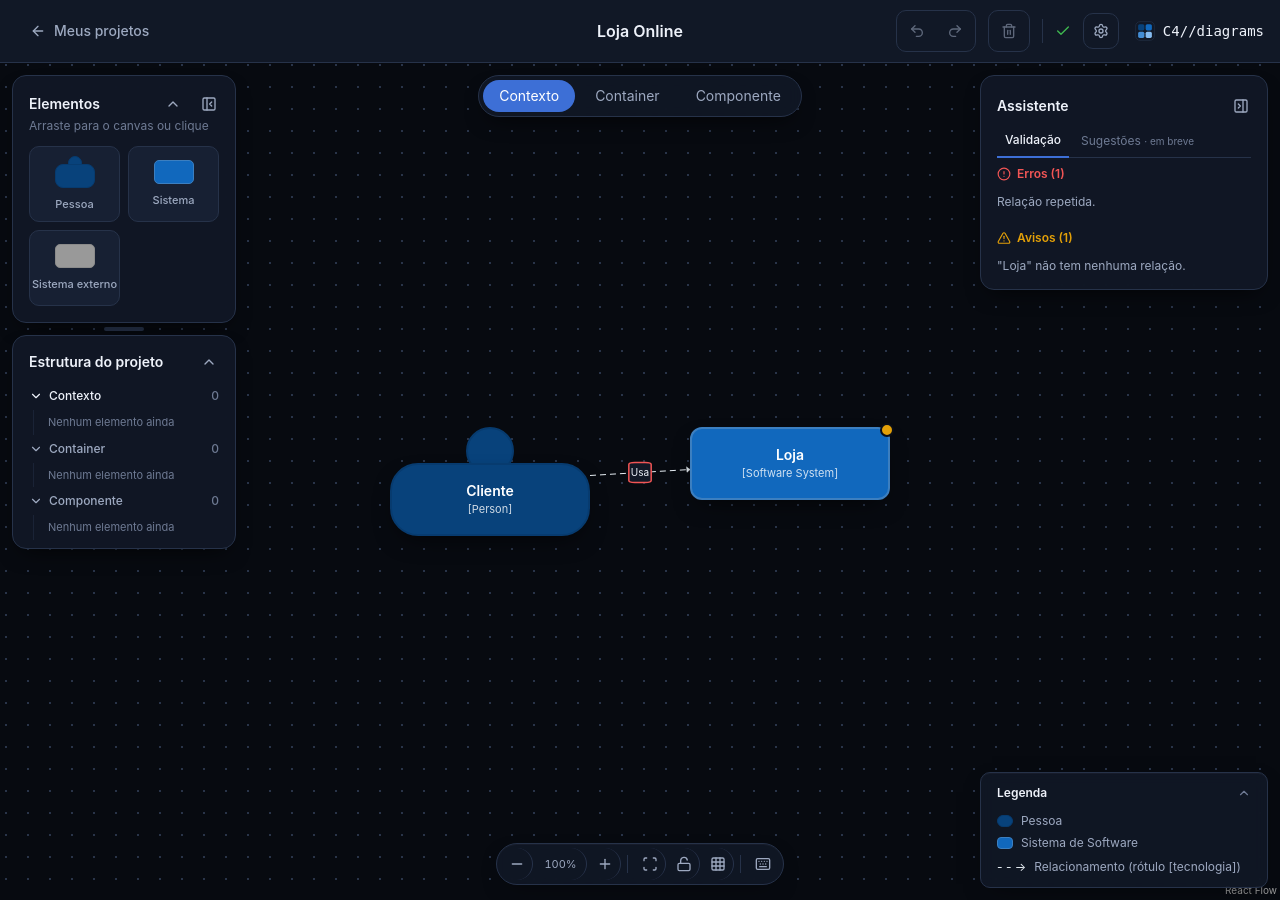
ProjectPage (editor de diagramas) › salvamento (RNF08) › deve mostrar os atalhos do editor num modal, incluindo a seleção múltipla
Expected: the heading "Loja Online" is shown, [597,19,683,43]
Click the button named "Configurações": (1101, 31) [1083,13,1119,49]
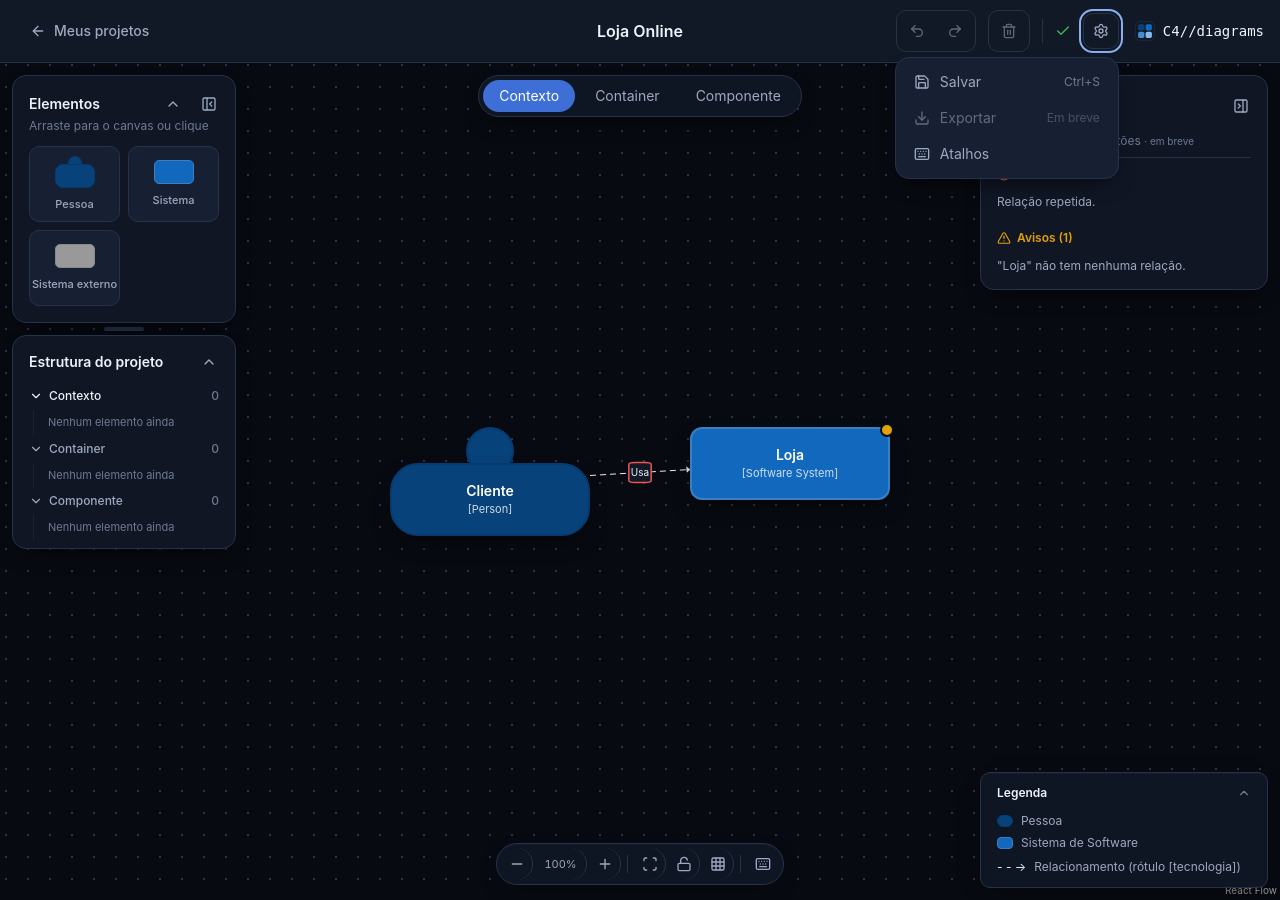
Click the menu item "Atalhos": (1007, 154) [902,136,1112,172]
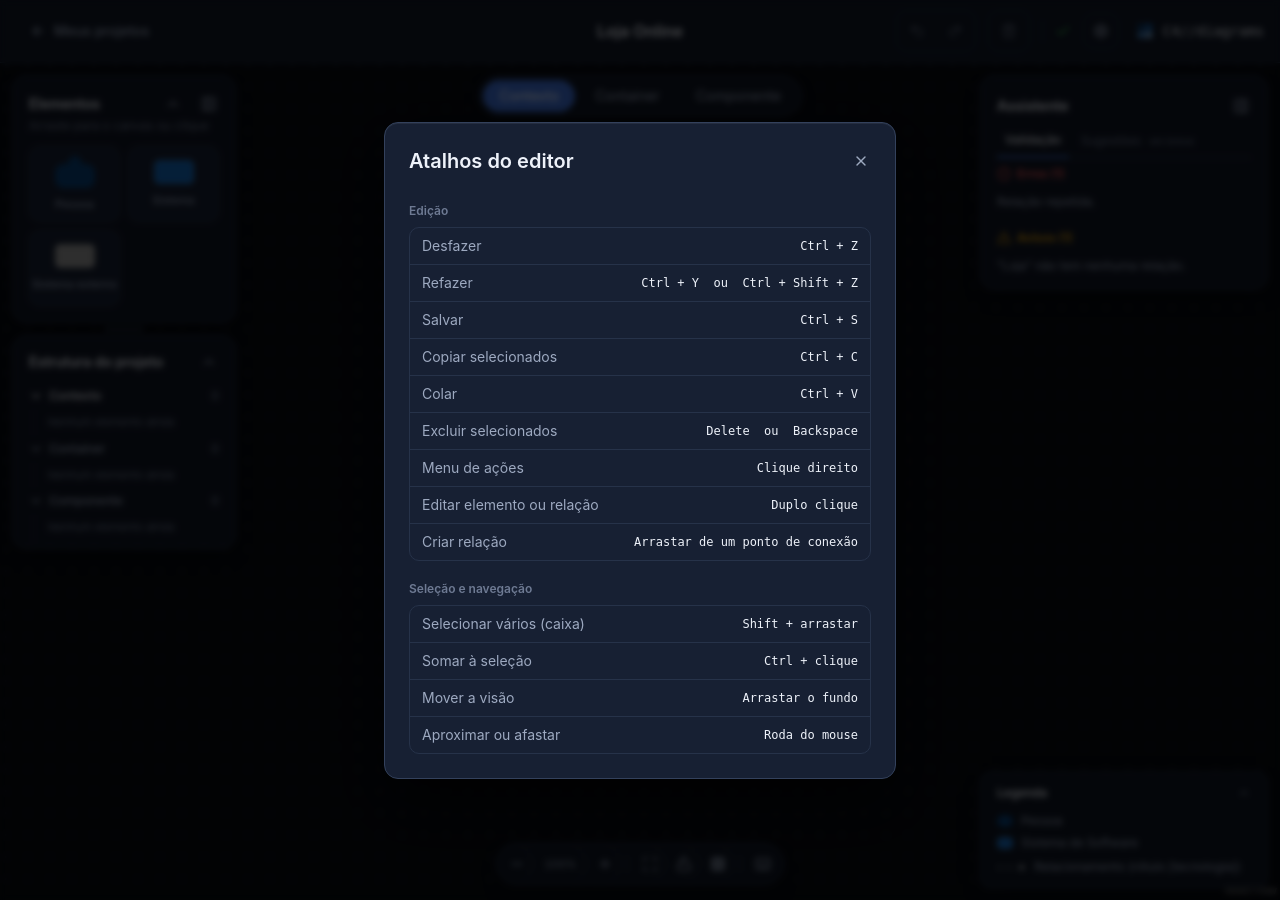
Result: the text "Salvar" is shown at [422,310,463,330]
Result: the text "Desfazer" is shown at [422,236,482,256]
Result: the text "Refazer" is shown at [422,272,473,292]
Click the button named "Fechar": (861, 160) [843,142,879,178]
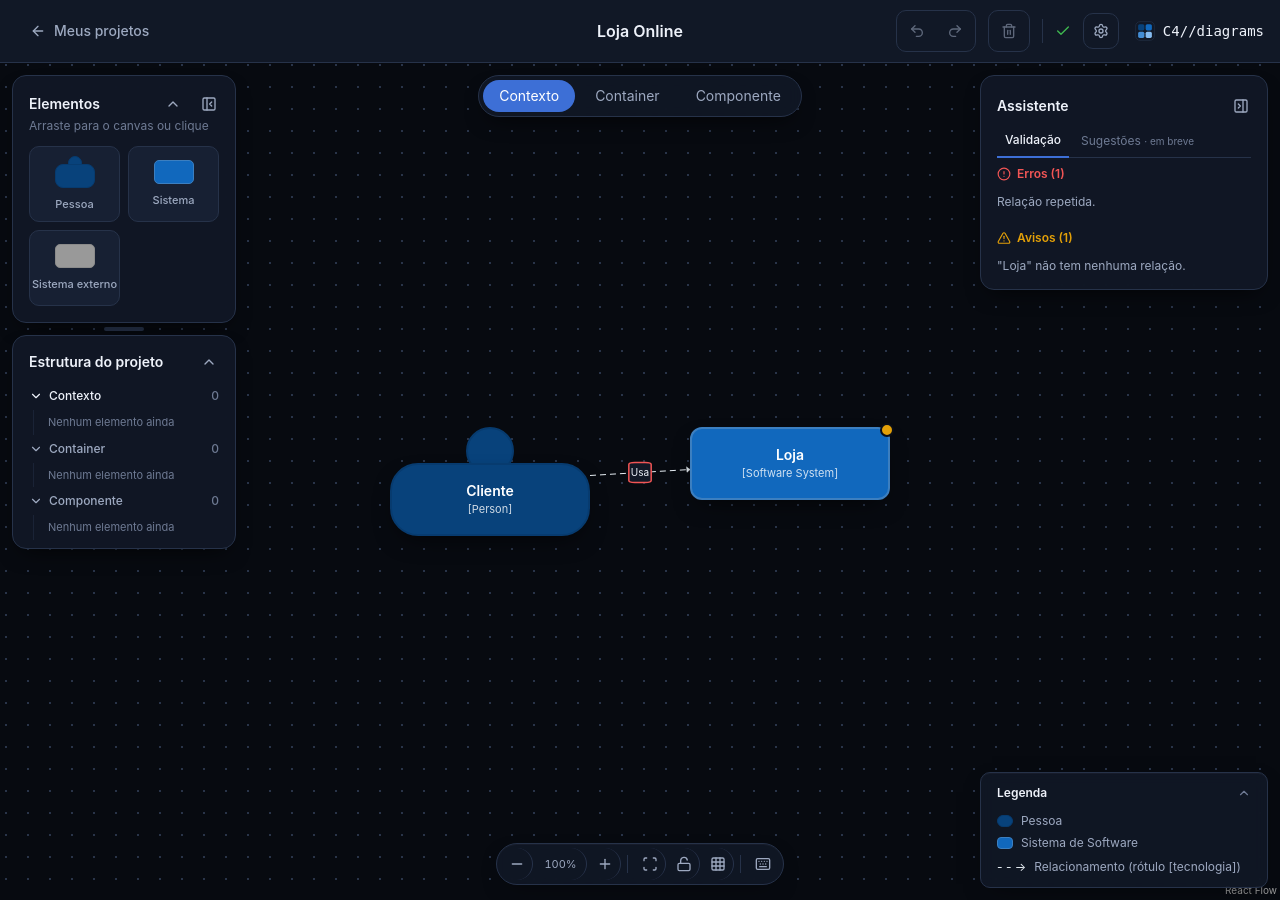
Result: the dialog is gone
